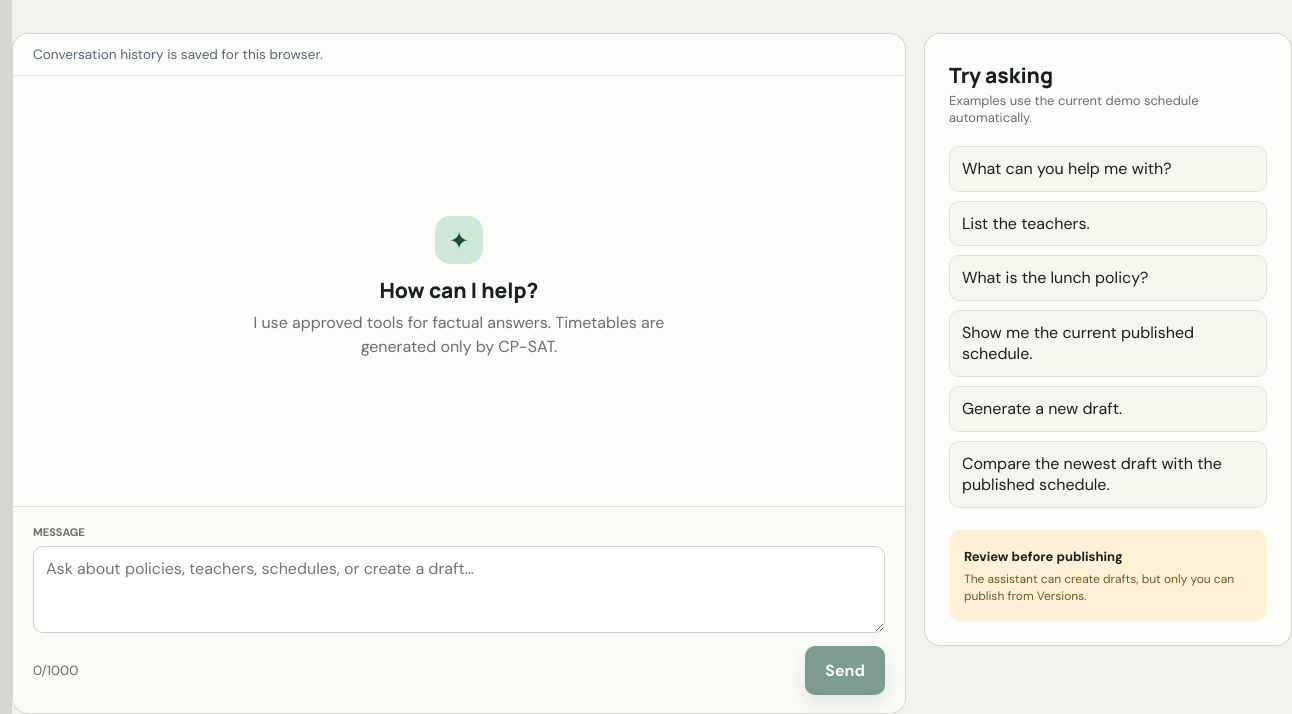
sends a user message and renders the assistant and tool activity
This screenshot has width=1292, height=714.
(page scrolled)
Type "List the teachers." into the text box labelled "Message" at (459, 590), box [33,546,885,633]
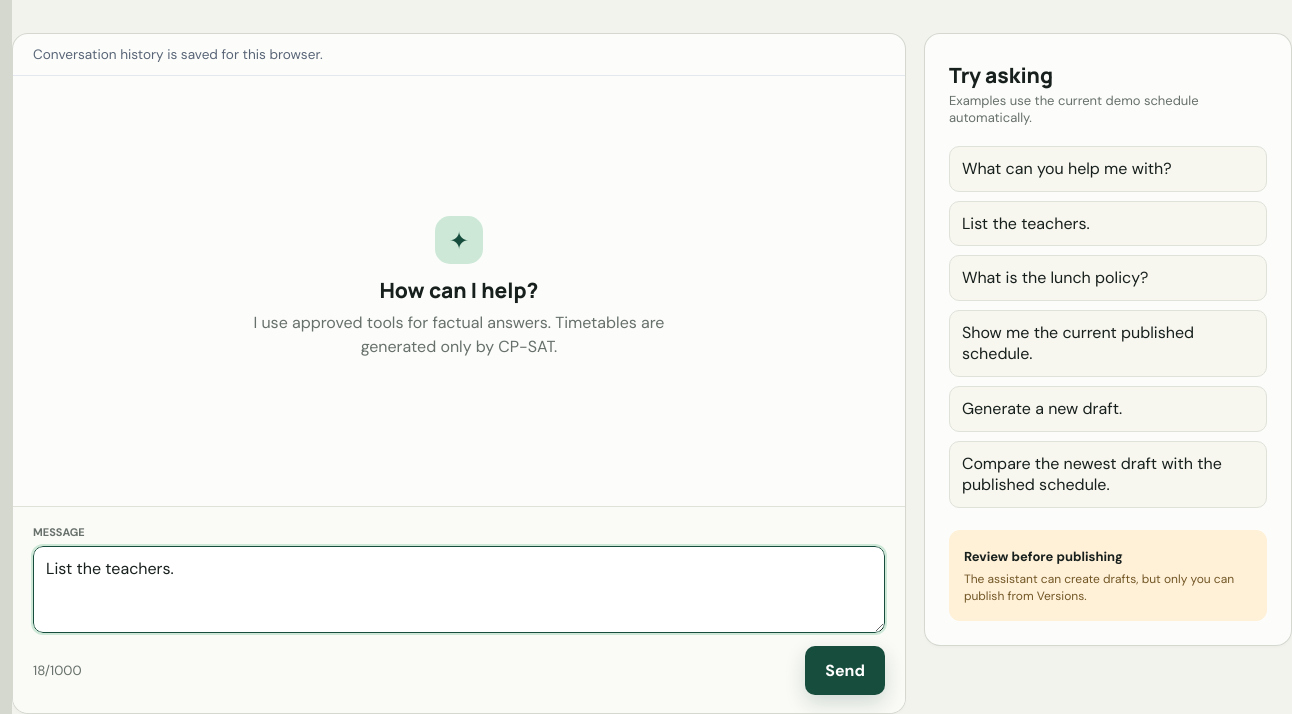
Click the button "Send" at (845, 671), box [805,646,885,695]
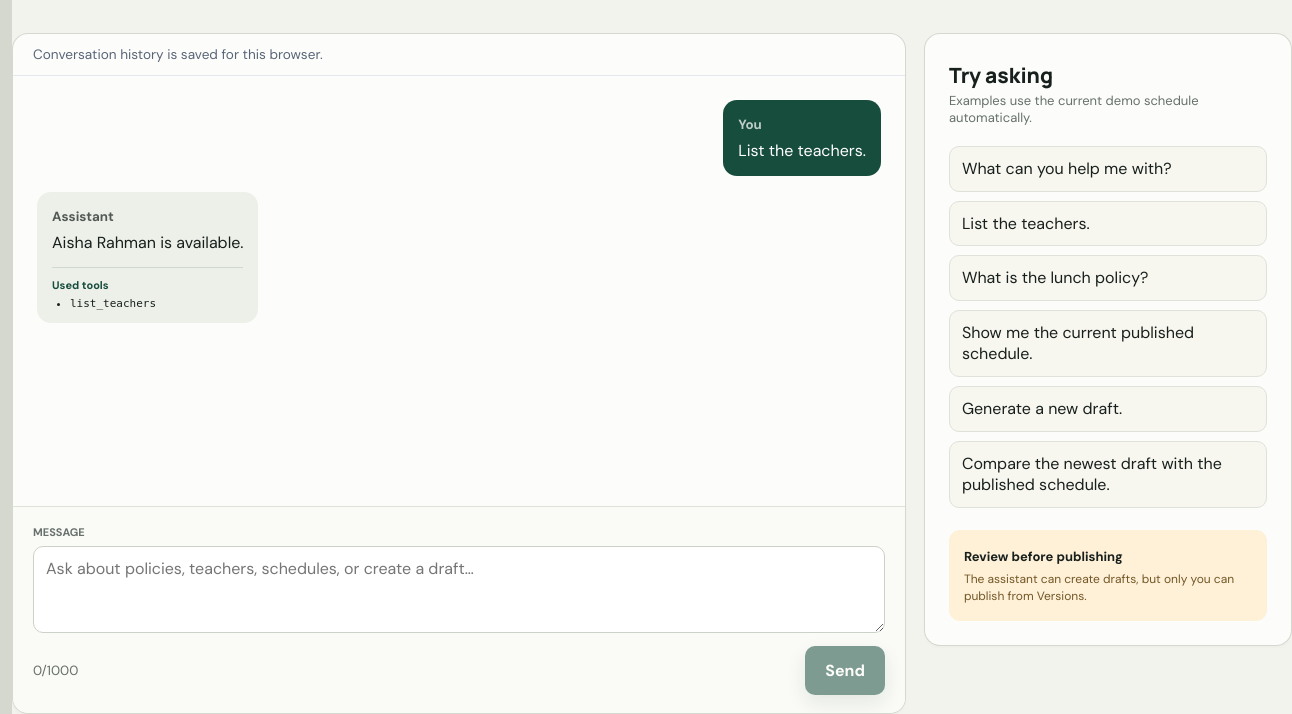
Result: the text "Aisha Rahman is available." is shown at [52,231,244,255]
Result: the text "Used tools" is shown at [52,278,109,292]
Result: the list item "list_teachers" is shown at [70,297,156,310]
